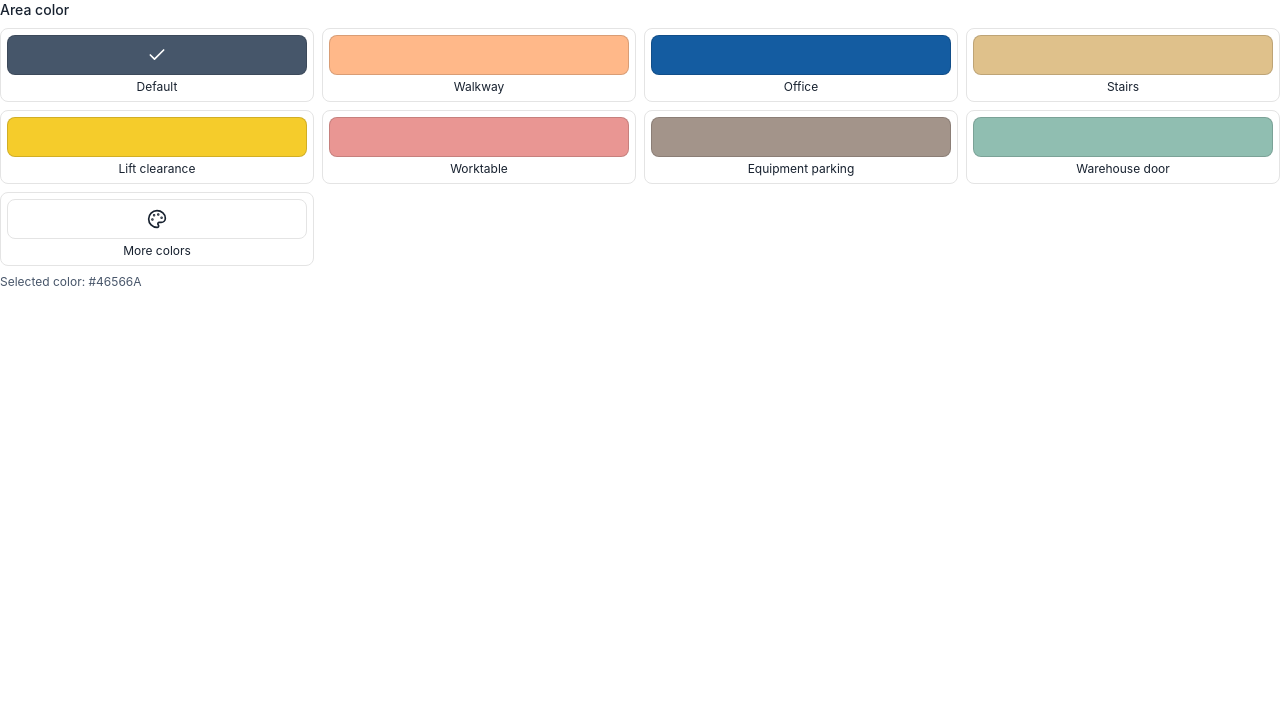
Test: AreaColorPicker › rejects invalid custom color red
This screenshot has width=1280, height=720.
Step 1. Click the button "More colors" → x=157, y=229, box [0, 192, 314, 266]
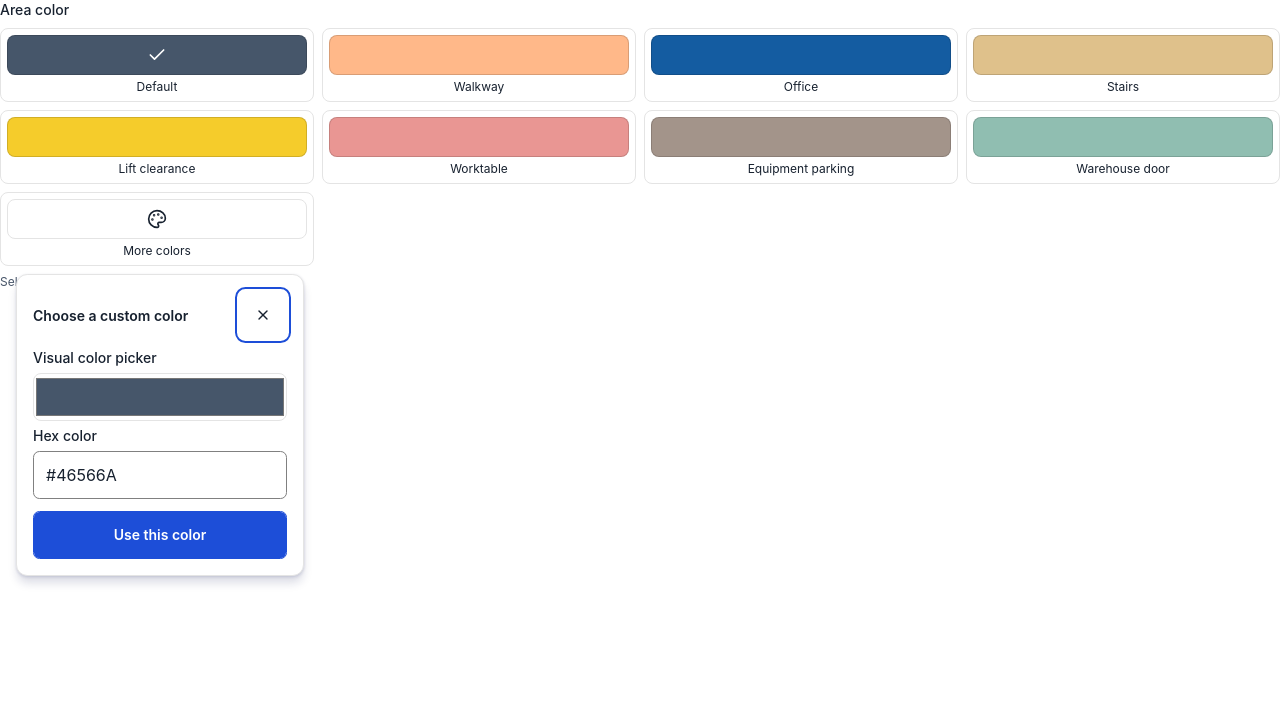
Step 2. Replace the text in the field labelled "Hex color" with "red" → x=160, y=475, box [33, 451, 287, 499]
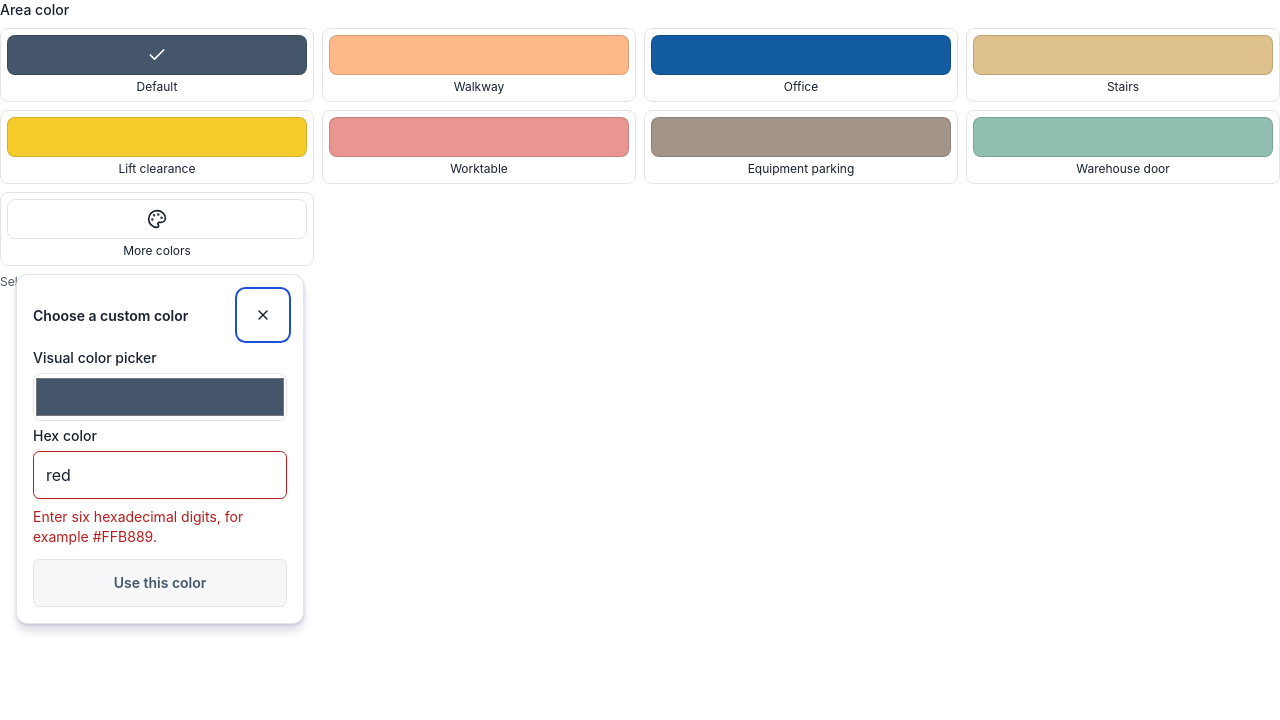
Result: the message shows "Enter six hexadecimal digits" at [33, 508, 243, 545]
Result: the button "Use this color" is disabled at [33, 559, 287, 607]
